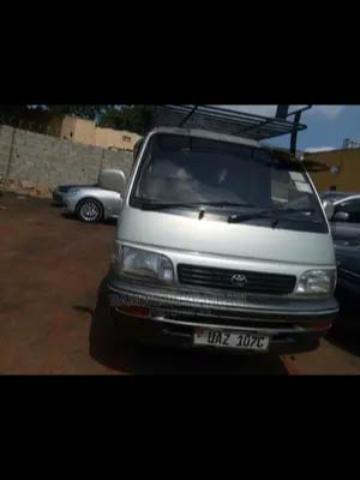van: (103, 106, 335, 352)
